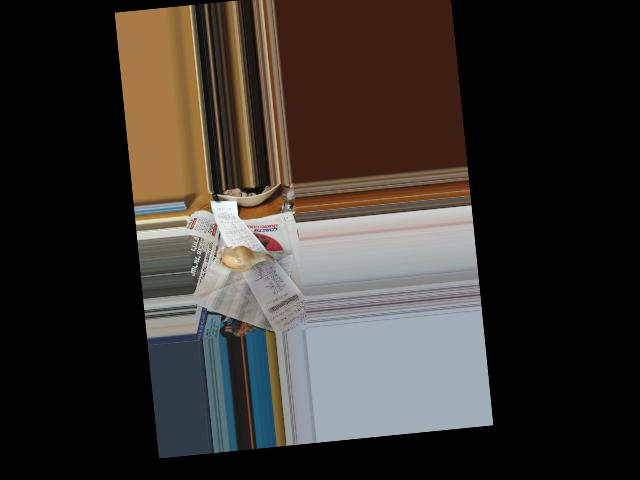onion: (220, 242, 265, 275)
